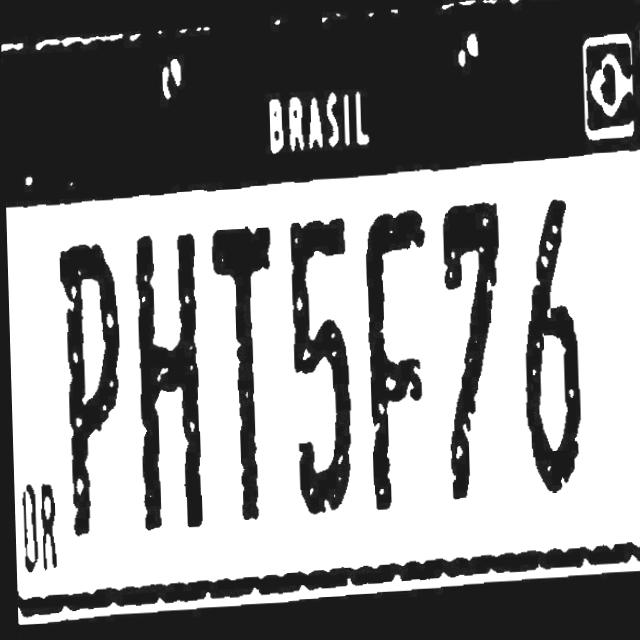5: (291, 218, 365, 532)
6: (519, 190, 600, 507)
7: (430, 194, 515, 514)
f: (364, 209, 446, 518)
h: (121, 235, 207, 550)
p: (54, 238, 126, 538)
t: (210, 227, 293, 540)
